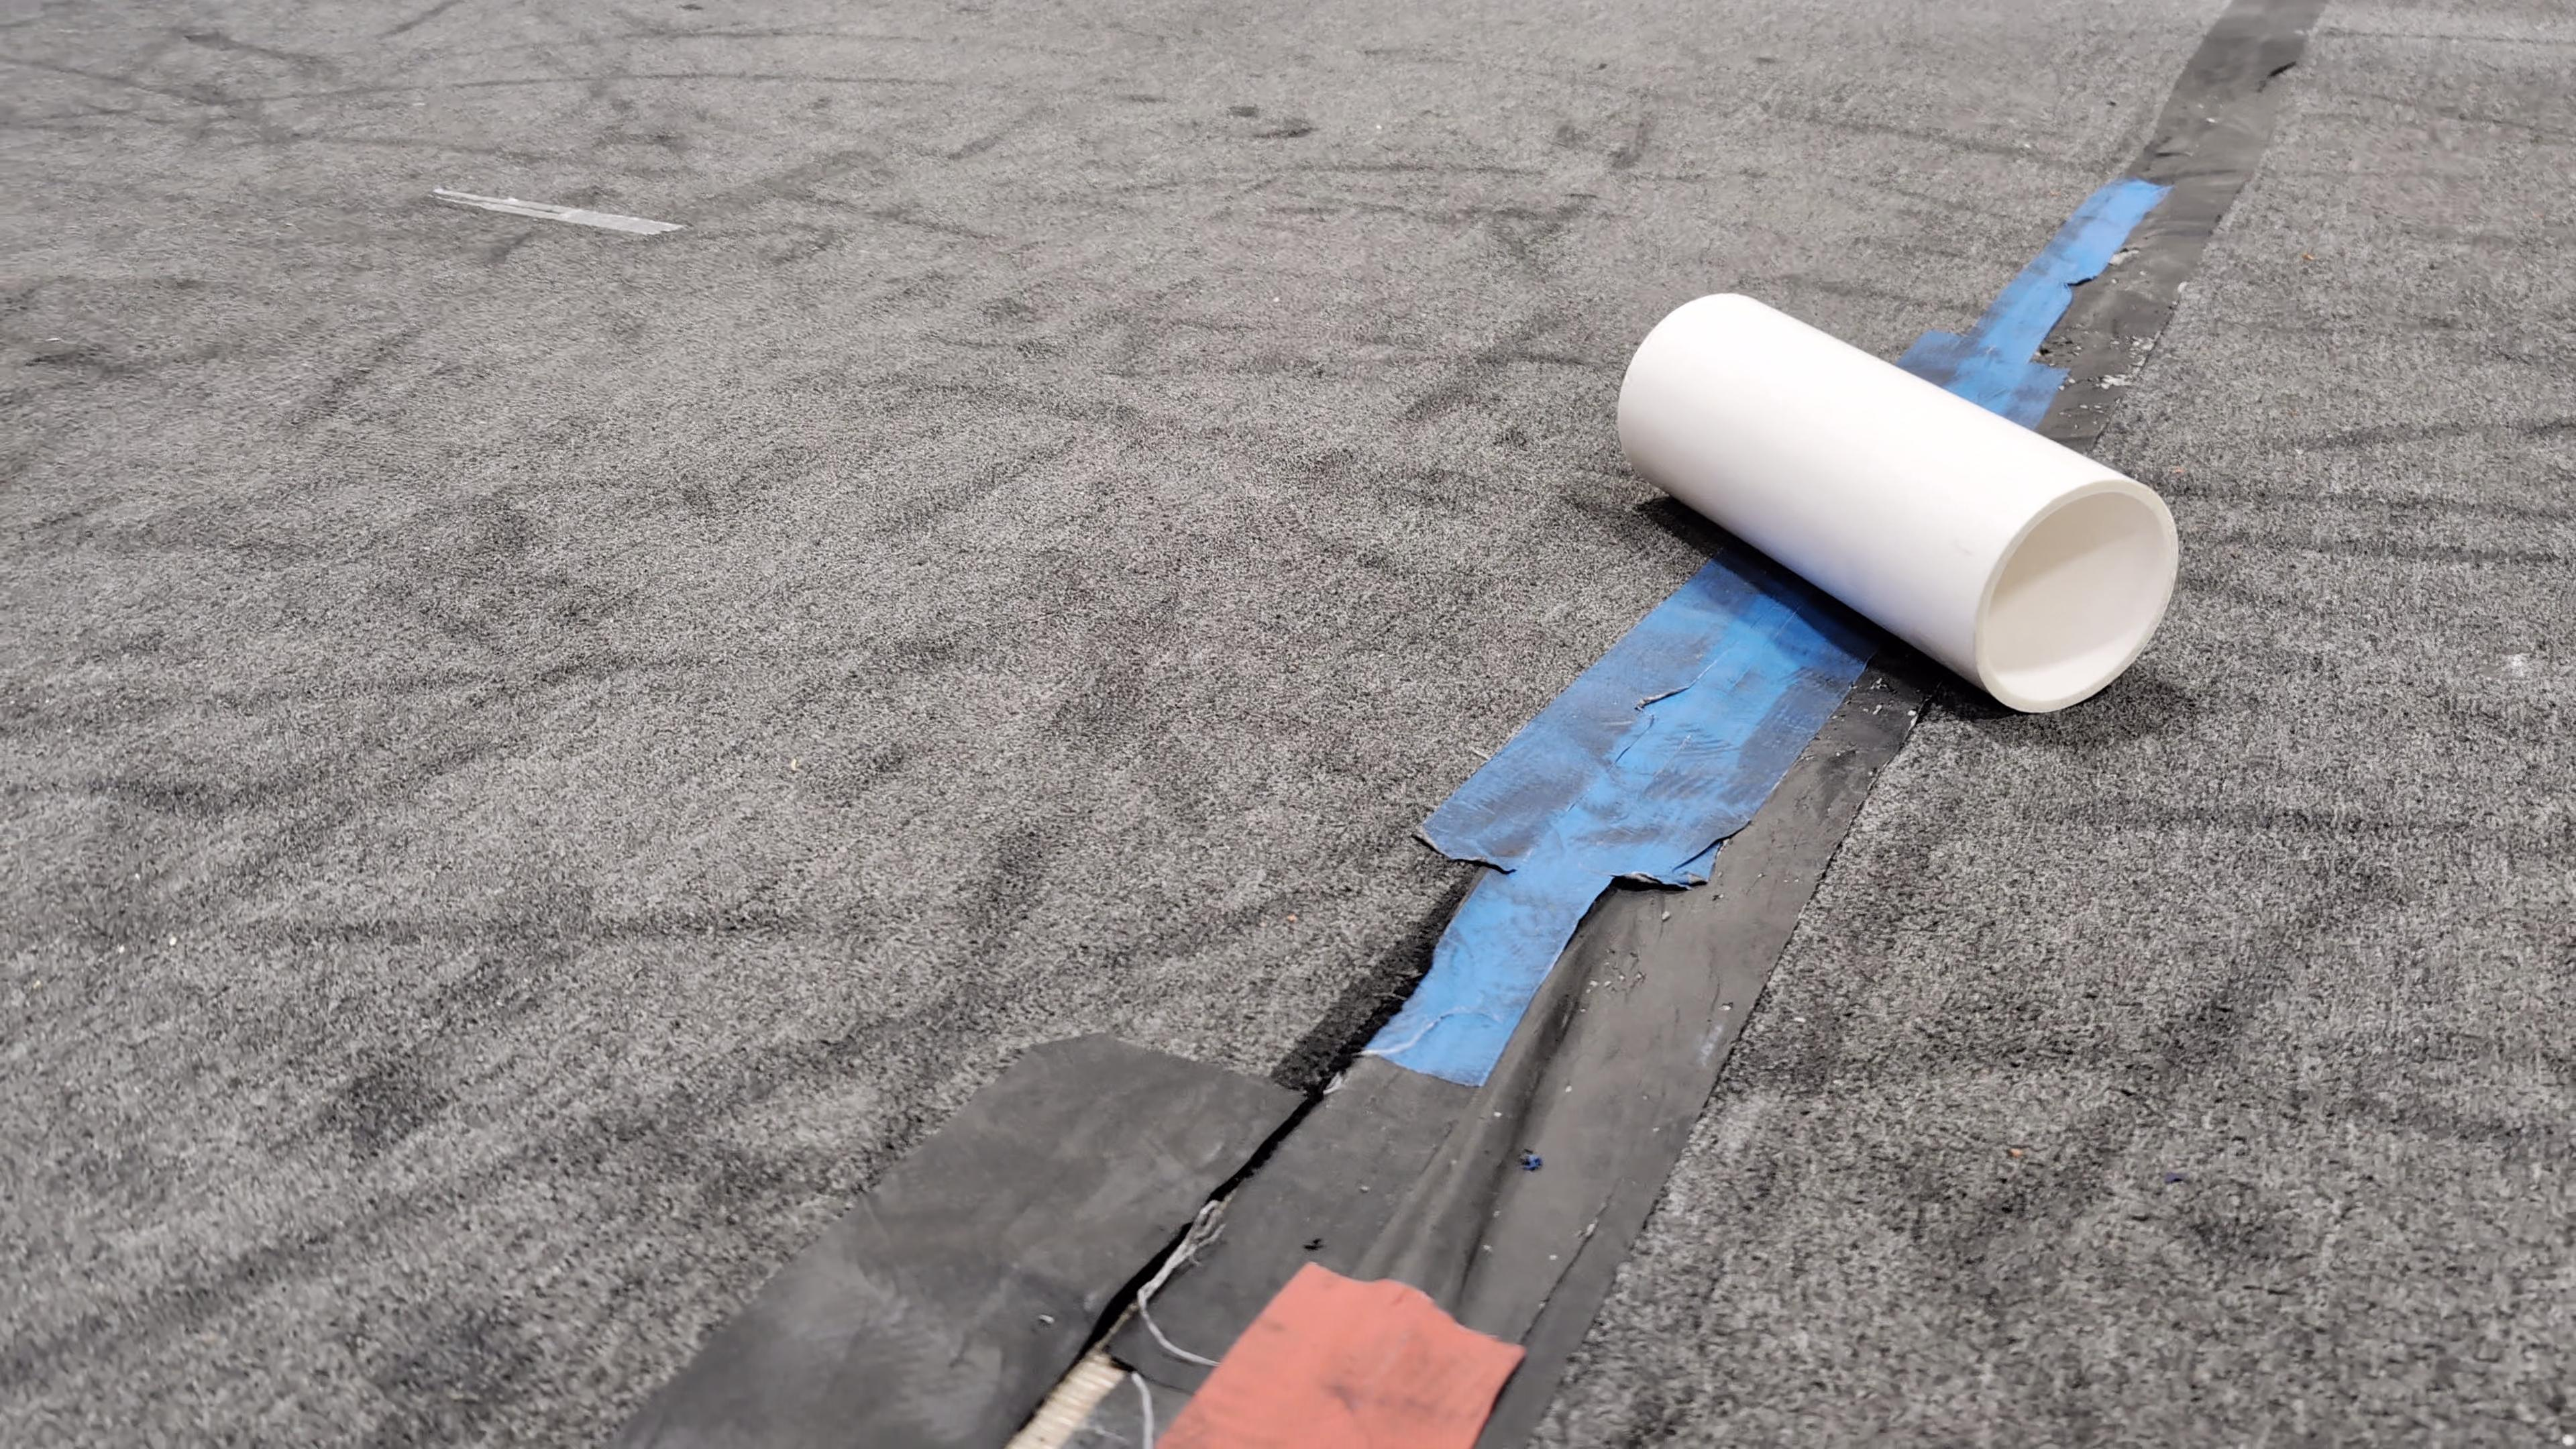coral: (1610, 285, 2181, 717)
